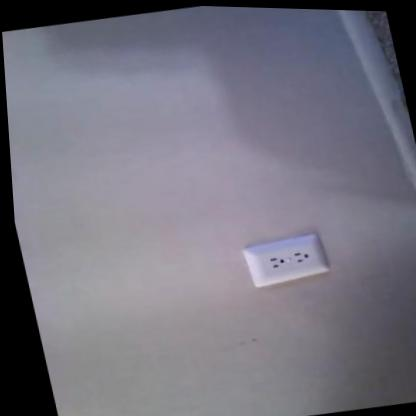OUTLET: (241, 229, 330, 290)
